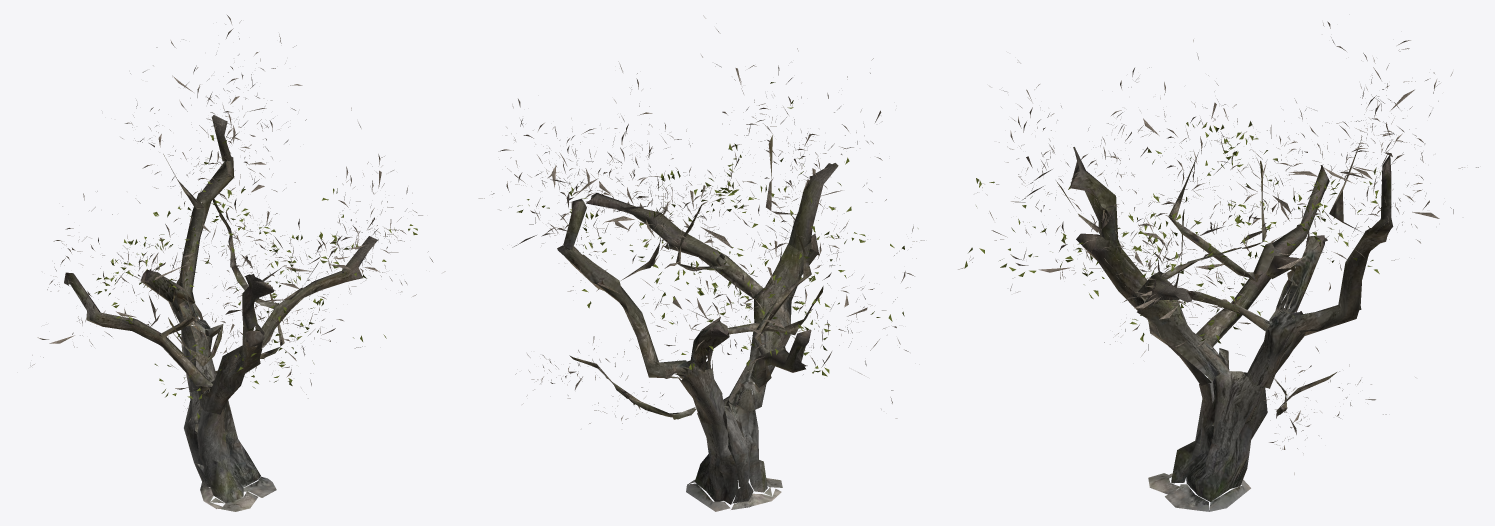
Rendered from tree_island_01.glb.
3 renders of one model, left to right at view 1: azimuth 30°, elevation 25°; view 2: azimuth 150°, elevation 25°; view 3: azimuth 270°, elevation 25°, orthographic. The views are drawn at different scales.
Visible parts, largest first — view 1: tree_island_01; view 2: tree_island_01; view 3: tree_island_01.
Boxes of the visible parts, x1=… form: tree_island_01: x1=30, y1=15, x2=445, y2=511; tree_island_01: x1=478, y1=15, x2=924, y2=511; tree_island_01: x1=958, y1=21, x2=1478, y2=511.
Size of the model in its own units: 7.69 by 8.24 by 7.79.
3 materials, 3 textured.
